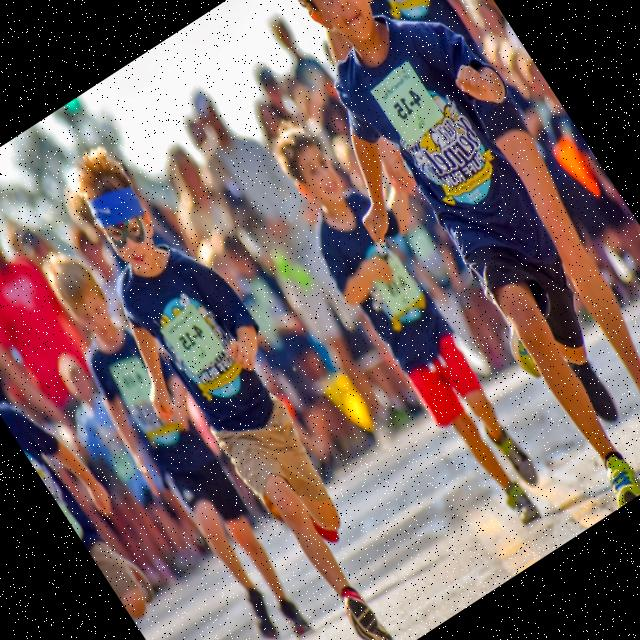Person: (218, 0, 640, 540), (13, 120, 446, 640), (279, 0, 640, 484), (247, 88, 598, 542), (15, 241, 324, 640), (0, 296, 246, 640)
